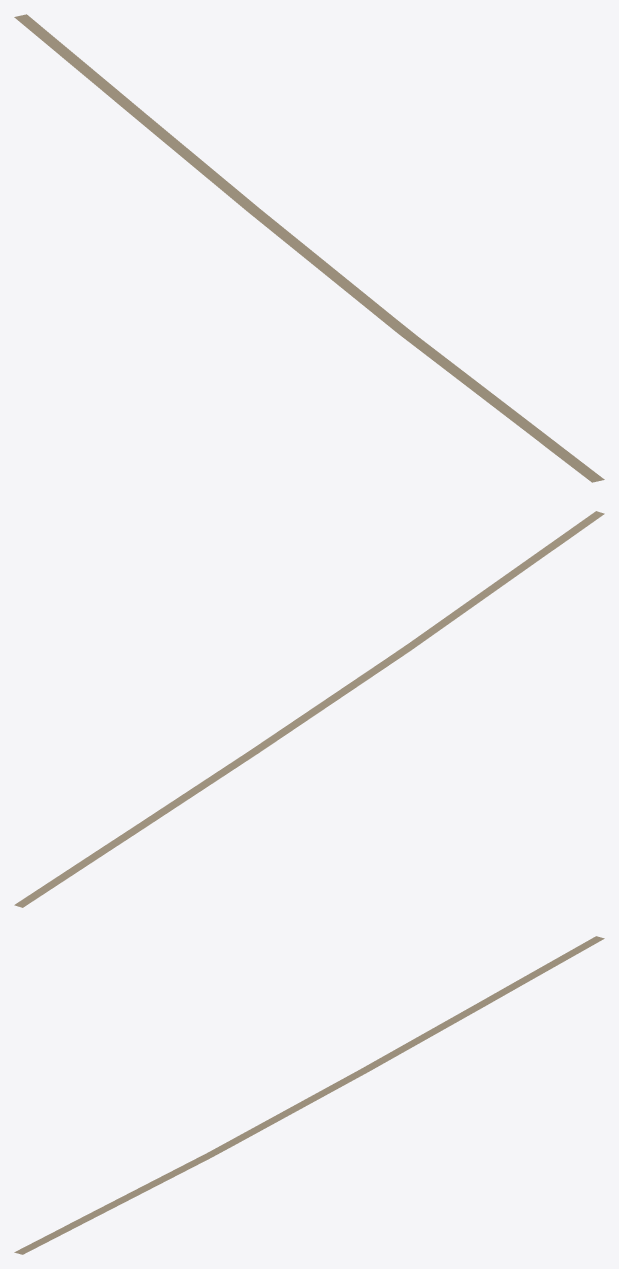
Rendered from farm_6_18_track.glb.
3 views of the same model, one above another, from view 1: azimuth 30°, elevation 25°; view 2: azimuth 150°, elevation 25°; view 3: azimuth 330°, elevation 25° (orthographic). The views are drawn at different scales.
Visible parts, largest first — view 1: geometry_0; view 2: geometry_0; view 3: geometry_0.
Boxes of the visible parts, x1,y1,x2,y2 form: geometry_0: [14, 14, 604, 482]; geometry_0: [14, 511, 604, 907]; geometry_0: [14, 936, 604, 1254].
Bounding box in the file's own units: 28.94 × 13.2 × 312.
